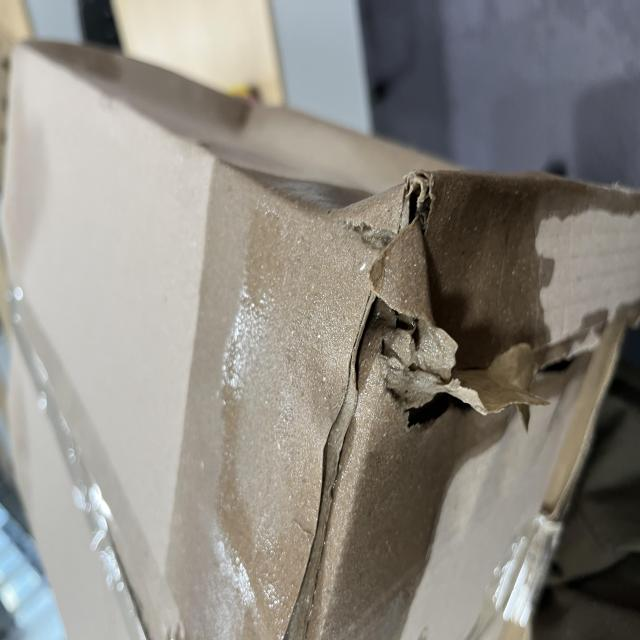wet: (2, 217, 391, 640)
